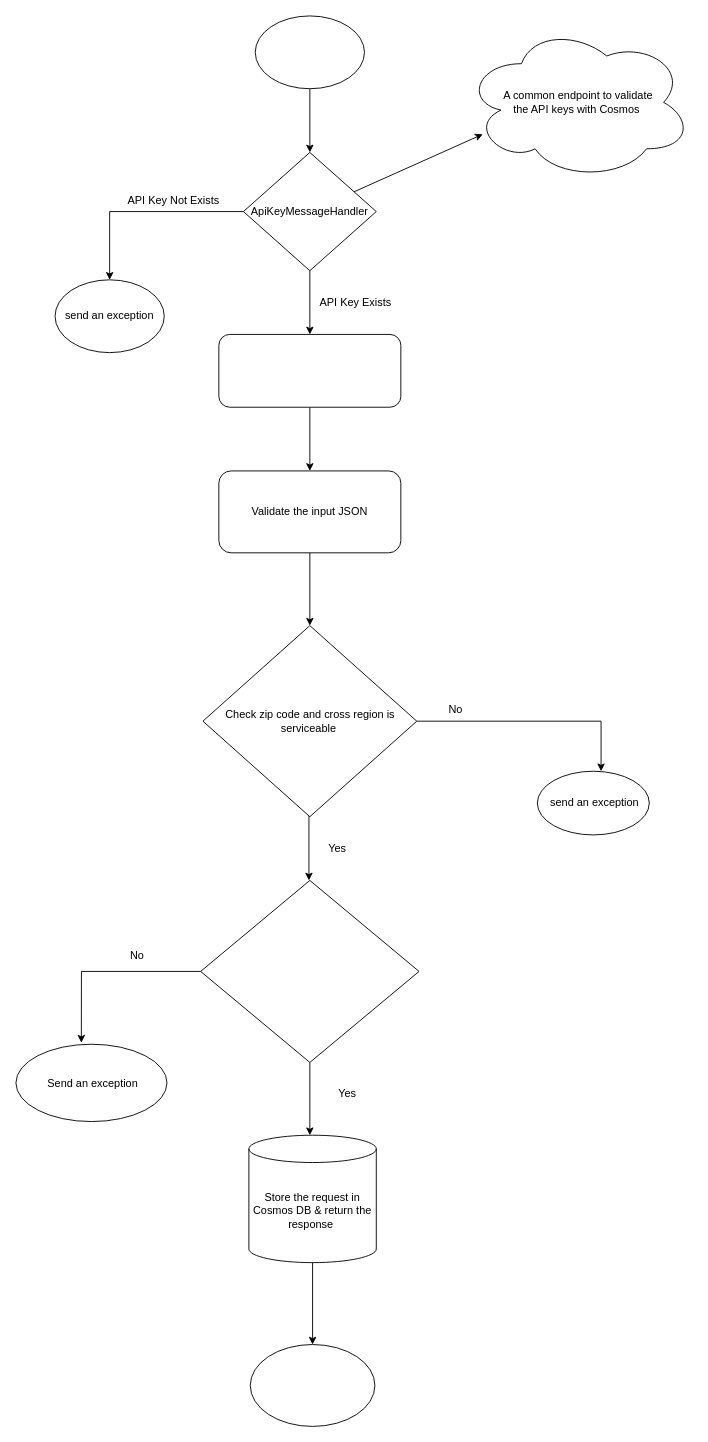
This 708x1442 diagram has some shape labels left out. Here are the shapes that lost their labels. From the top down, the centre of each, then its label:
pixel 309 52: Start vNext Order creation API end Point
pixel 309 370: Select customer key, feature flag and price set from Cosmos DB
pixel 309 971: Check whether the price set exists
pixel 312 1385: End
